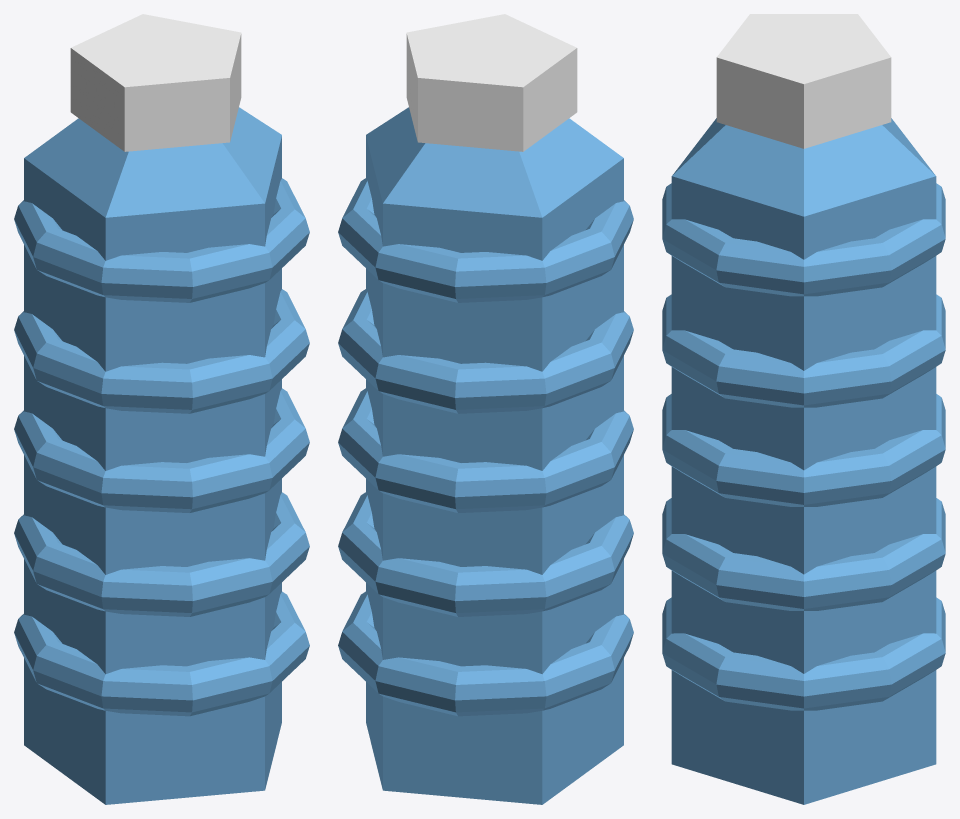
Rendered from water.glb.
The picture shows the model from 3 angles, left to right: view 1: azimuth 30°, elevation 25°; view 2: azimuth 150°, elevation 25°; view 3: azimuth 270°, elevation 25°; orthographic projection.
Visible parts, largest first — view 1: Mesh_4, Mesh_7, Mesh_6, Mesh_5, Mesh_1, Mesh_2, Mesh_3, Mesh_0; view 2: Mesh_4, Mesh_7, Mesh_6, Mesh_5, Mesh_1, Mesh_2, Mesh_3, Mesh_0; view 3: Mesh_4, Mesh_7, Mesh_6, Mesh_3, Mesh_5, Mesh_0, Mesh_2, Mesh_1.
Boxes of the visible parts, x1=… form: Mesh_4: x1=24, y1=136, x2=281, y2=804; Mesh_7: x1=70, y1=14, x2=241, y2=151; Mesh_6: x1=24, y1=107, x2=281, y2=217; Mesh_5: x1=14, y1=289, x2=309, y2=413; Mesh_1: x1=14, y1=492, x2=309, y2=616; Mesh_2: x1=14, y1=388, x2=309, y2=512; Mesh_3: x1=14, y1=178, x2=309, y2=302; Mesh_0: x1=14, y1=591, x2=309, y2=716; Mesh_4: x1=366, y1=136, x2=623, y2=804; Mesh_7: x1=406, y1=14, x2=577, y2=151; Mesh_6: x1=366, y1=107, x2=623, y2=217; Mesh_5: x1=338, y1=289, x2=633, y2=413; Mesh_1: x1=338, y1=492, x2=633, y2=616; Mesh_2: x1=338, y1=388, x2=633, y2=512; Mesh_3: x1=338, y1=178, x2=633, y2=302; Mesh_0: x1=338, y1=591, x2=633, y2=716; Mesh_4: x1=671, y1=176, x2=936, y2=804; Mesh_7: x1=716, y1=14, x2=891, y2=148; Mesh_6: x1=672, y1=118, x2=935, y2=216; Mesh_3: x1=662, y1=183, x2=945, y2=296; Mesh_5: x1=662, y1=294, x2=945, y2=407; Mesh_0: x1=662, y1=597, x2=945, y2=710; Mesh_2: x1=662, y1=394, x2=945, y2=506; Mesh_1: x1=662, y1=498, x2=945, y2=610.
Bounding box in the file's own units: 0.0643 × 0.1667 × 0.0611.
